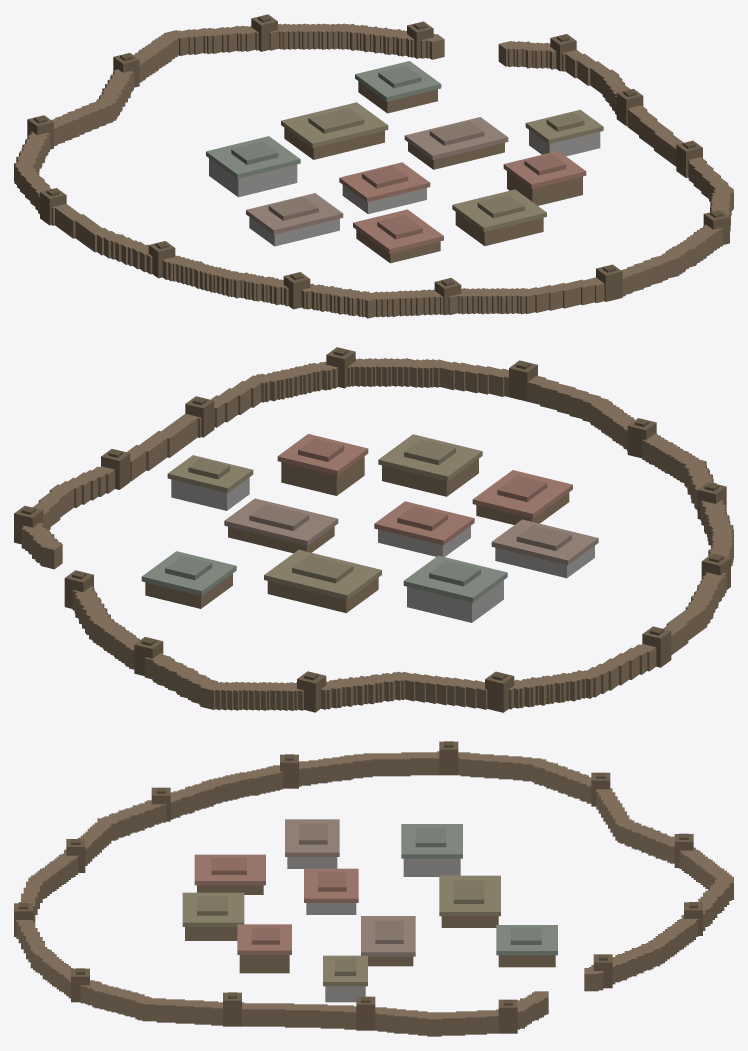
Rendered from ciudad_campamento_barbaros_grande_2024_2258_01.glb.
3 views of the same model, one above another, from view 1: azimuth 30°, elevation 25°; view 2: azimuth 150°, elevation 25°; view 3: azimuth 270°, elevation 25° (orthographic). The views are drawn at different scales.
Visible parts, largest first — view 1: ciudad_campamento_barbaros_grande_2024_2258; view 2: ciudad_campamento_barbaros_grande_2024_2258; view 3: ciudad_campamento_barbaros_grande_2024_2258.
Boxes of the visible parts, bbox=[...] form: ciudad_campamento_barbaros_grande_2024_2258: bbox=[14, 14, 733, 318]; ciudad_campamento_barbaros_grande_2024_2258: bbox=[14, 347, 733, 712]; ciudad_campamento_barbaros_grande_2024_2258: bbox=[14, 741, 733, 1036].
Size of the model in its own units: 67 by 3.25 by 75.75.
